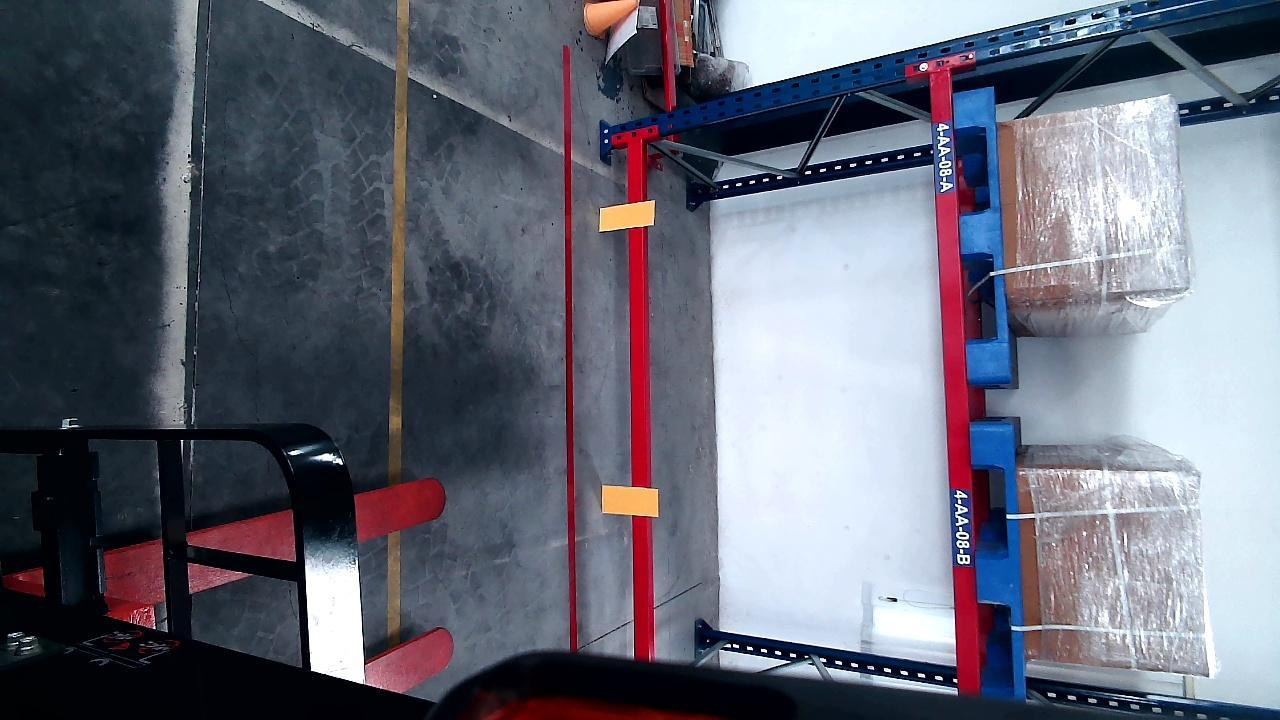red_line: (560, 48, 578, 651)
yellow_line: (387, 0, 412, 437)
